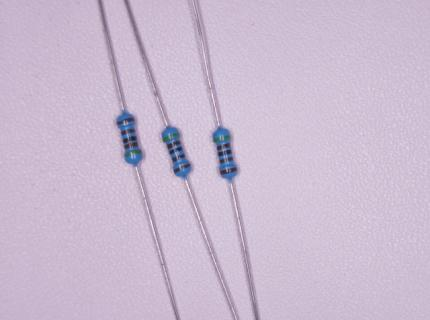Black band: (169, 146, 182, 155), (218, 149, 232, 157), (123, 137, 136, 143)
Brown band: (174, 163, 191, 174), (219, 166, 237, 174), (117, 118, 134, 125), (217, 142, 230, 151), (121, 129, 135, 137), (167, 141, 180, 149), (172, 154, 185, 162), (124, 142, 138, 149), (220, 157, 233, 164)
Green band: (163, 134, 179, 142), (124, 150, 142, 157), (213, 135, 230, 142)
